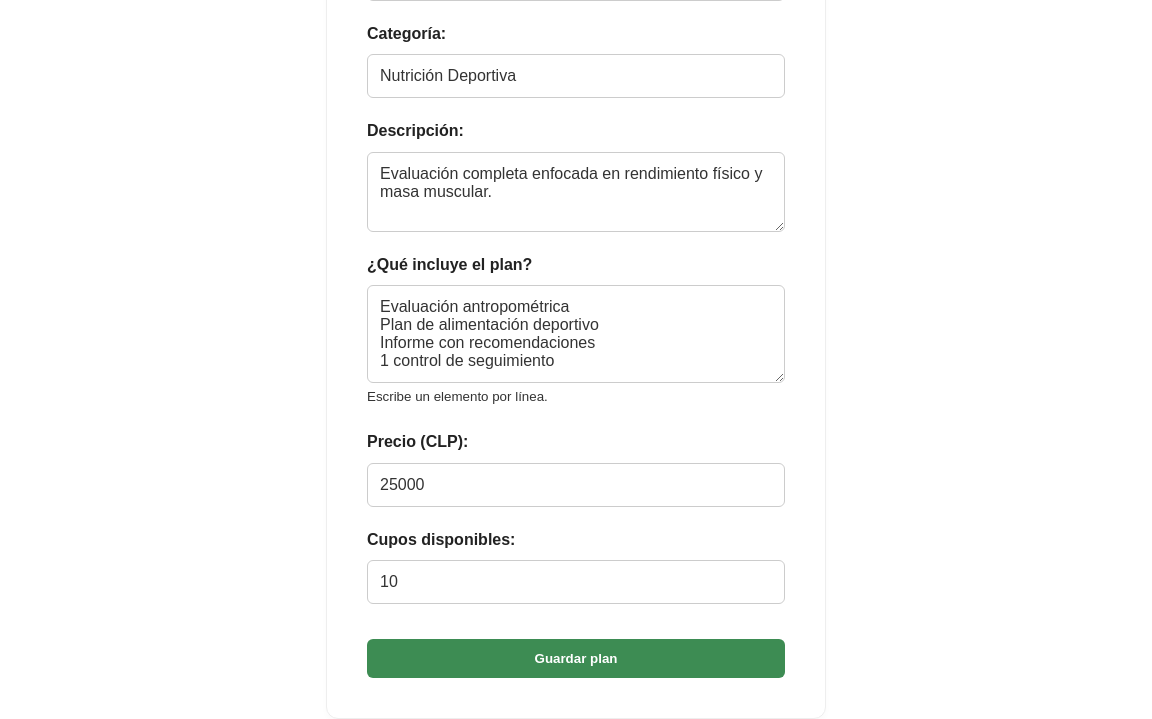
PlanAdminContainer › el precio editado aparece en el listado de planes
(page scrolled)
Actuar: cambiar el precio y guardar, como lo haría el administrador
Replace the text in the number field labelled "Precio (CLP):" with "31234" at (576, 484), box [367, 462, 785, 506]
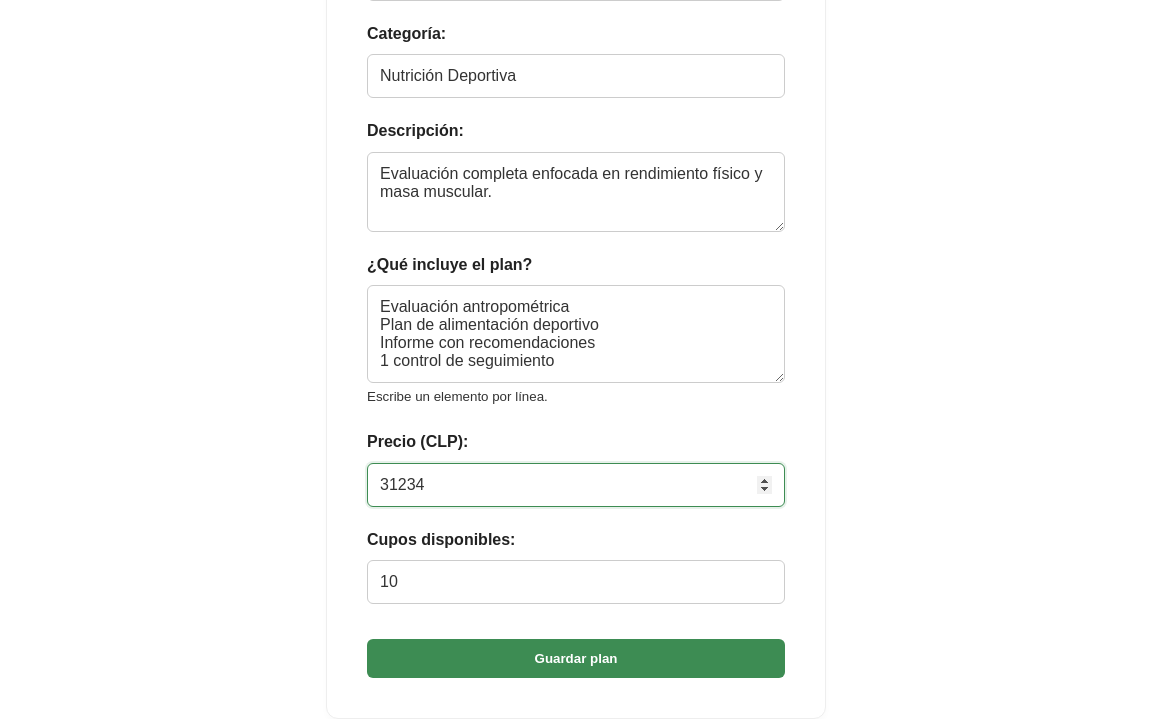
Click the button "Guardar plan" at (576, 659), box [367, 639, 785, 678]
(page scrolled)
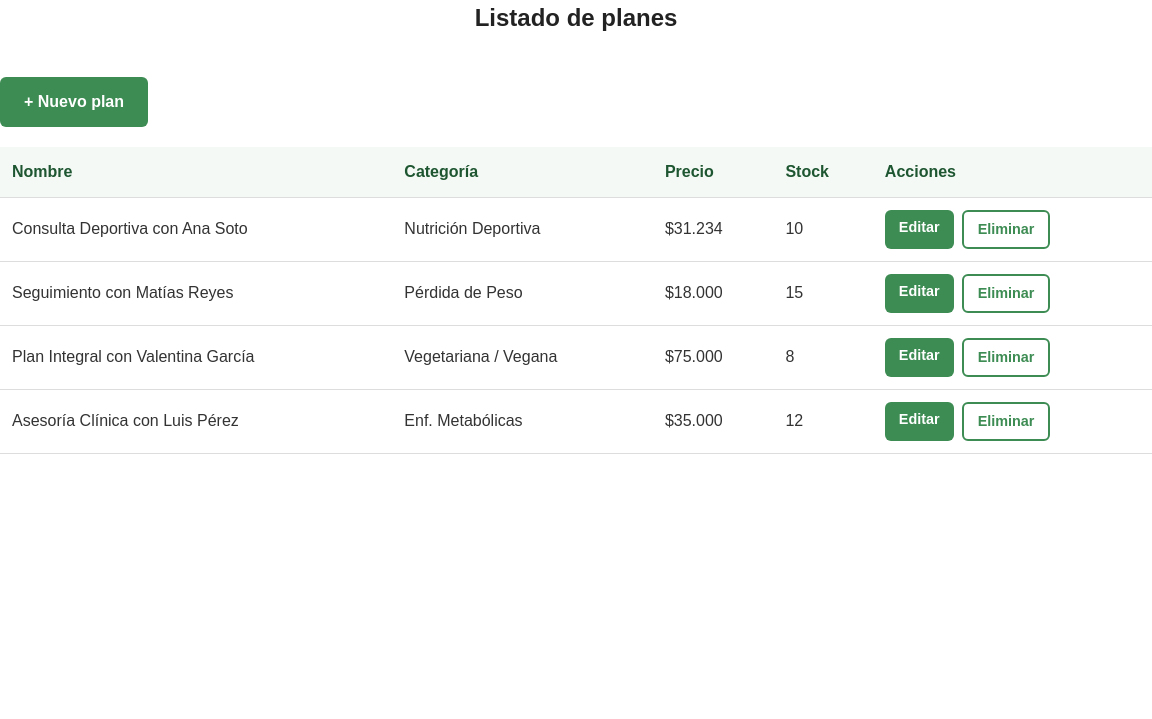
Now the text "$31.234" is shown, box [653, 197, 773, 261]
